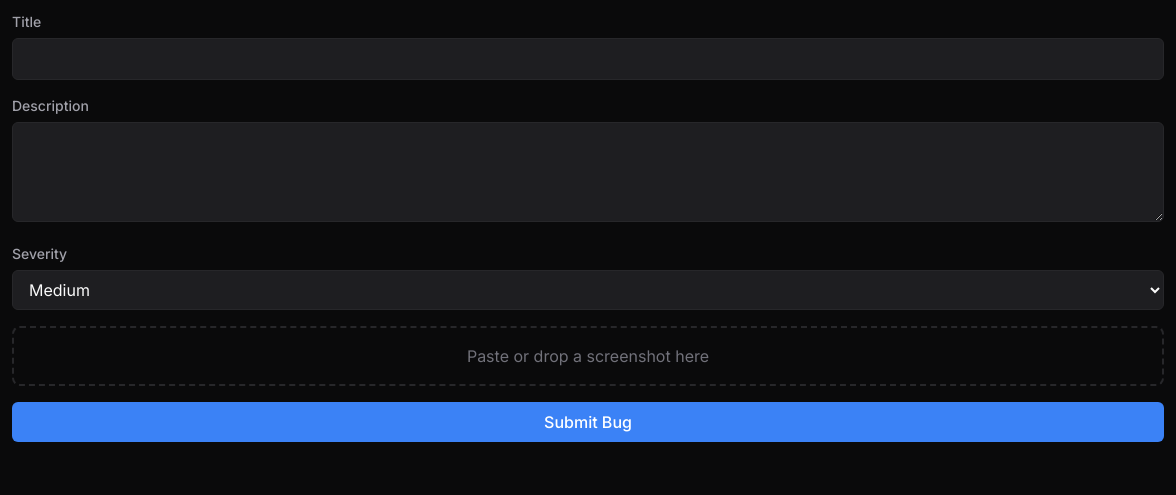
Test: BugSubmitPanel › shows error on submit failure
Type "Bug" into the field labelled "Title" at x=588, y=59, box [12,38,1164,80]
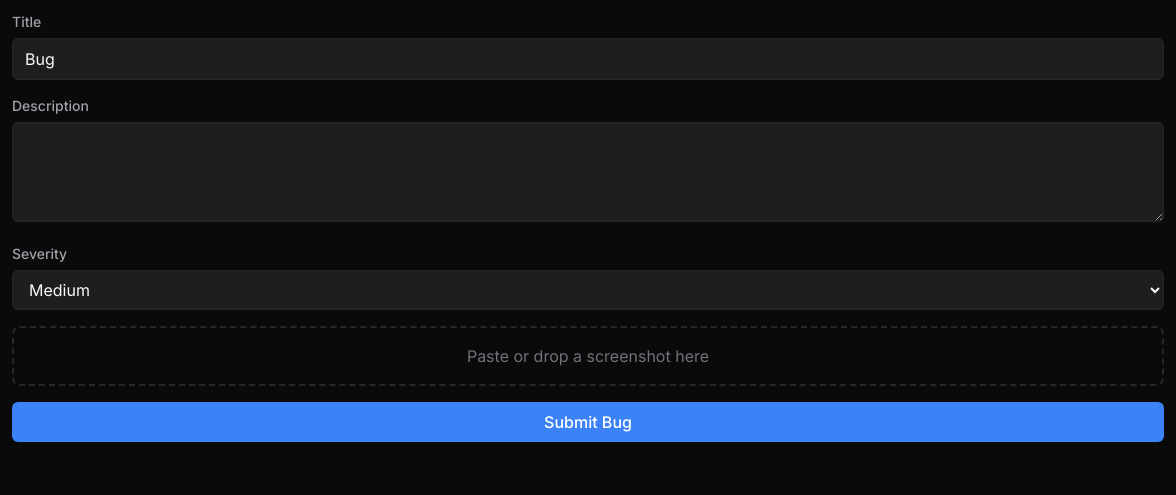
Click the button "Submit Bug" at x=588, y=422, box [12,402,1164,442]
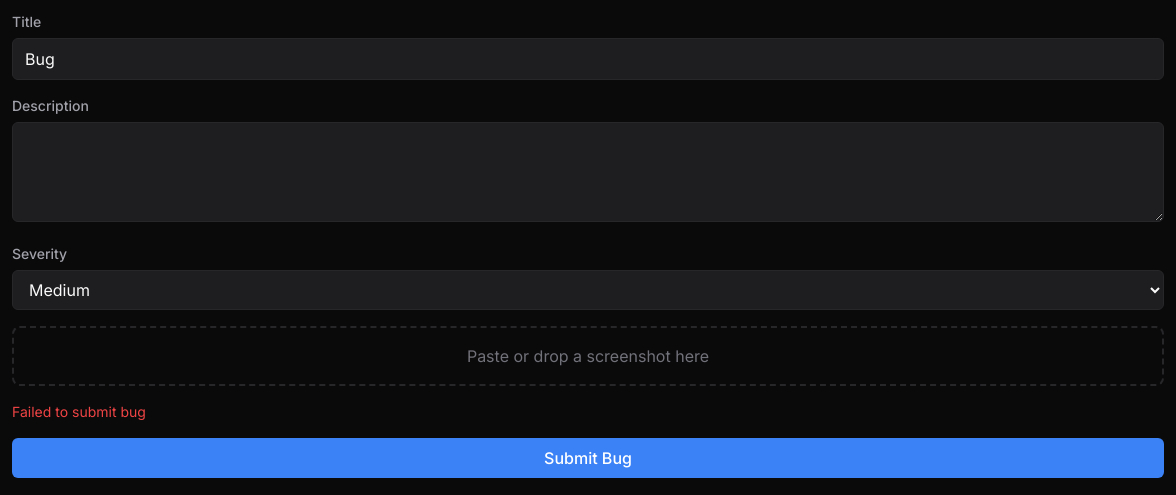
expect the text "Failed to submit bug" is shown: met, box [12,403,146,420]
